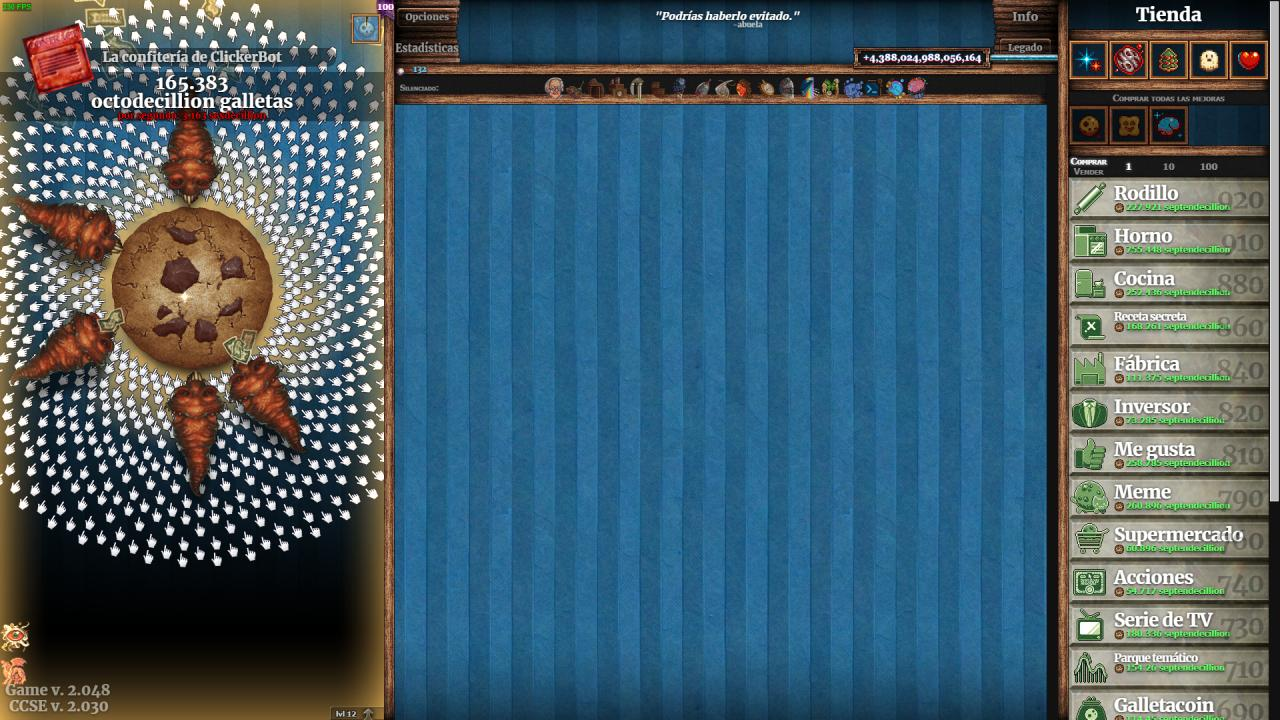RedCartridge: (21, 22, 96, 98)
